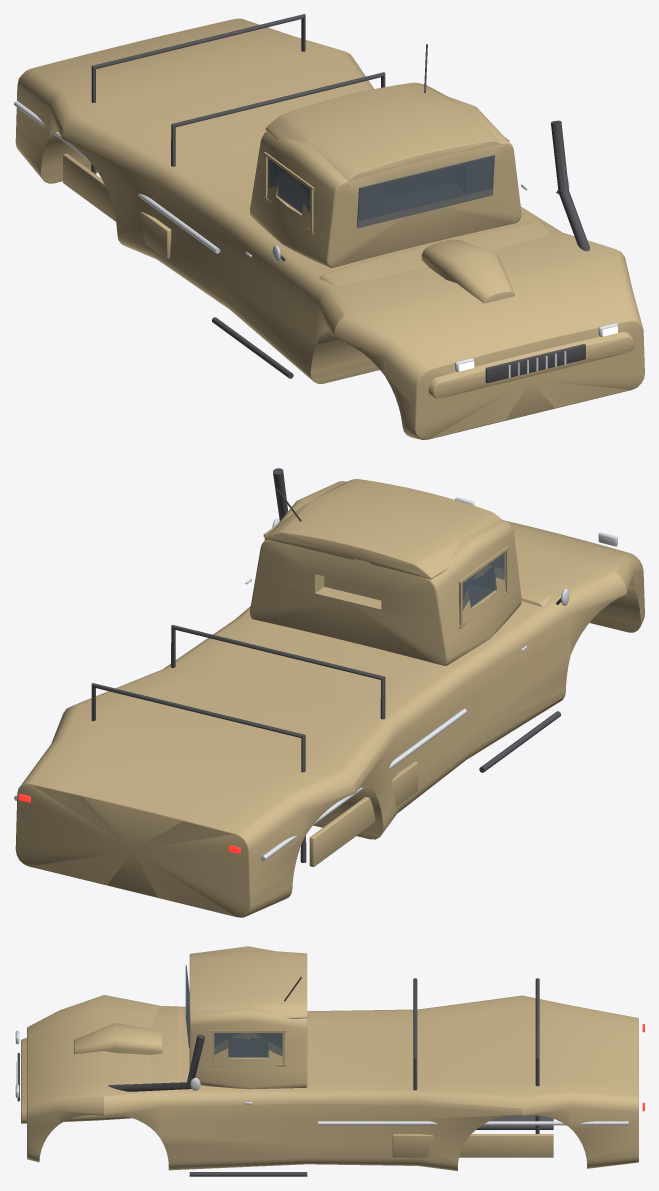
File: veldt-meridian.glb
The picture shows the model from 3 angles, top to bottom: view 1: azimuth 30°, elevation 25°; view 2: azimuth 150°, elevation 25°; view 3: azimuth 270°, elevation 25°; orthographic projection. The views are drawn at different scales.
Parts seen in each view (by area): view 1: PaintBody, PaintCab, PaintRoof, PaintHood, Glass.002, Paint.008, Plastic.003, Plastic.009, Plastic.002, Plastic.004, Glass, Chrome.001 (+1 smaller); view 2: PaintBody, PaintCab, PaintRoof, Paint.008, Plastic.002, Plastic.004, Glass, Chrome.001, Plastic.006; view 3: PaintBody, PaintCab, PaintRoof, PaintHood, Paint.009, Glass.001, Chrome.002, Plastic.009, Plastic.001, Plastic.002, Plastic.008, Plastic.004.
Boxes of the visible parts, x1,y1,x2,y2 form: PaintBody: (15, 18, 644, 439); PaintCab: (250, 97, 521, 267); PaintRoof: (265, 82, 506, 187); PaintHood: (319, 222, 634, 398); Glass.002: (357, 155, 494, 228); Paint.008: (63, 153, 171, 259); Plastic.003: (485, 344, 585, 383); Plastic.009: (551, 120, 589, 251); Plastic.002: (91, 14, 305, 174); Plastic.004: (171, 72, 385, 166); Glass: (268, 158, 313, 213); Chrome.001: (14, 101, 220, 253); PaintBody: (15, 521, 644, 917); PaintCab: (250, 481, 521, 665); PaintRoof: (265, 479, 500, 579); Paint.008: (309, 761, 417, 866); Plastic.002: (91, 683, 306, 862); Plastic.004: (171, 625, 385, 719); Glass: (459, 552, 504, 610); Chrome.001: (260, 708, 466, 861); Plastic.006: (479, 711, 560, 772); PaintBody: (27, 995, 638, 1170); PaintCab: (189, 946, 307, 1089); PaintRoof: (189, 949, 307, 1018); PaintHood: (21, 1006, 179, 1123); Paint.009: (392, 1134, 553, 1157); Glass.001: (214, 1033, 282, 1057); Chrome.002: (318, 1121, 628, 1125); Plastic.009: (108, 1034, 205, 1091); Plastic.001: (476, 1115, 553, 1129); Plastic.002: (535, 978, 539, 1133); Plastic.008: (189, 1172, 307, 1176); Plastic.004: (413, 978, 417, 1090).
Bounding box in the file's own units: 2.22 × 1.66 × 5.36.
